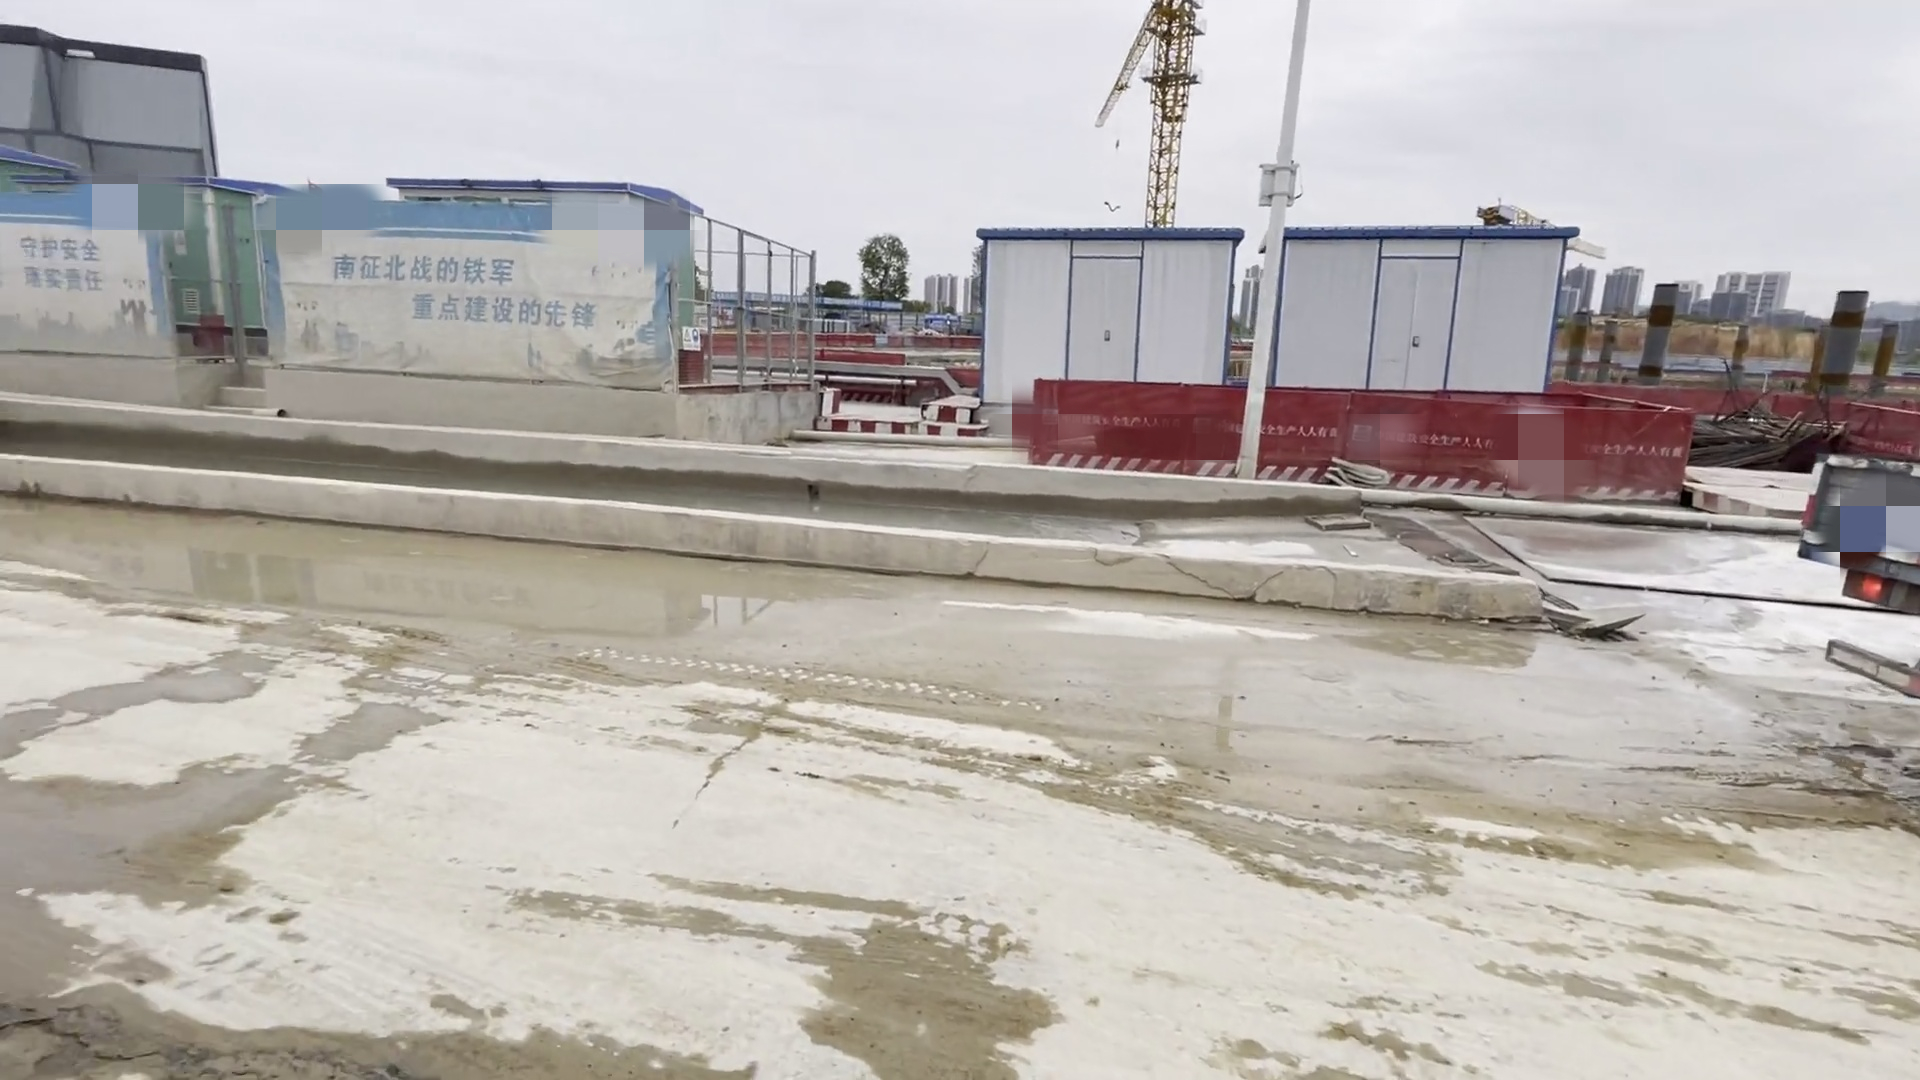slogan: (1, 208, 678, 407)
